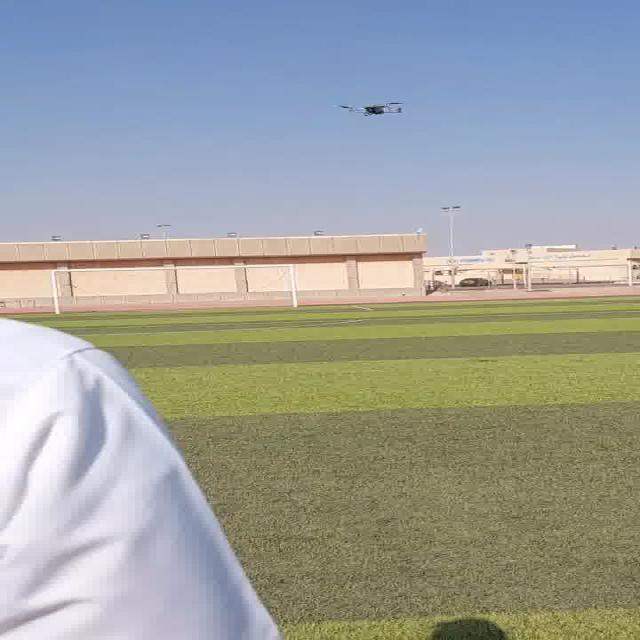drone: (331, 100, 415, 120)
